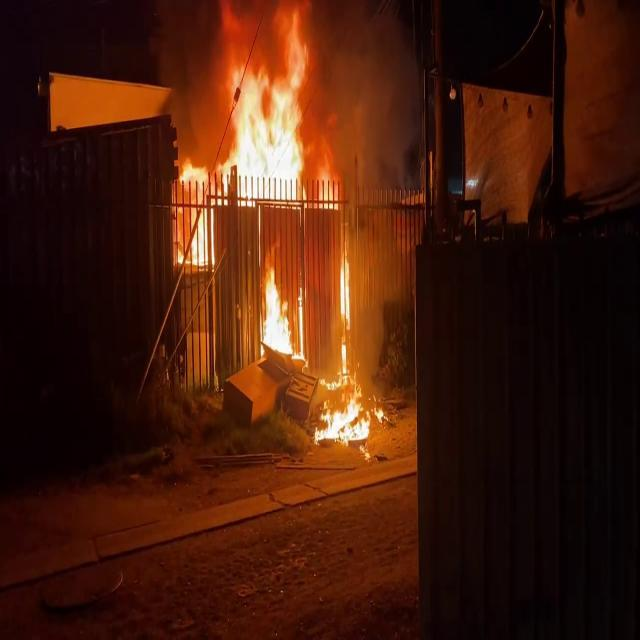Fire: (178, 6, 338, 259), (258, 261, 300, 363), (313, 383, 378, 448)
Smoke: (314, 0, 425, 316)
